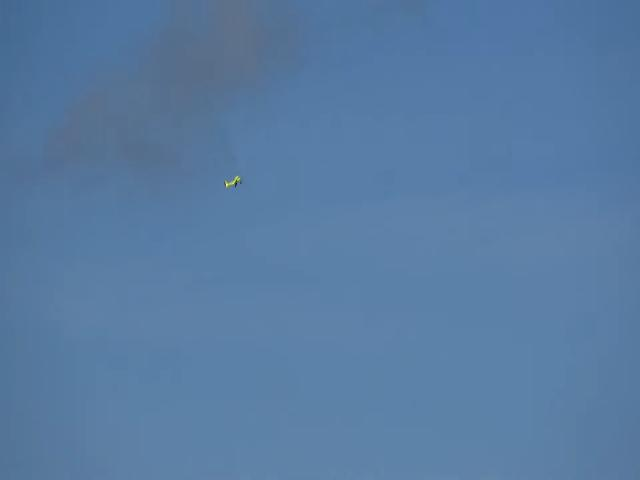plane: (222, 173, 244, 191)
